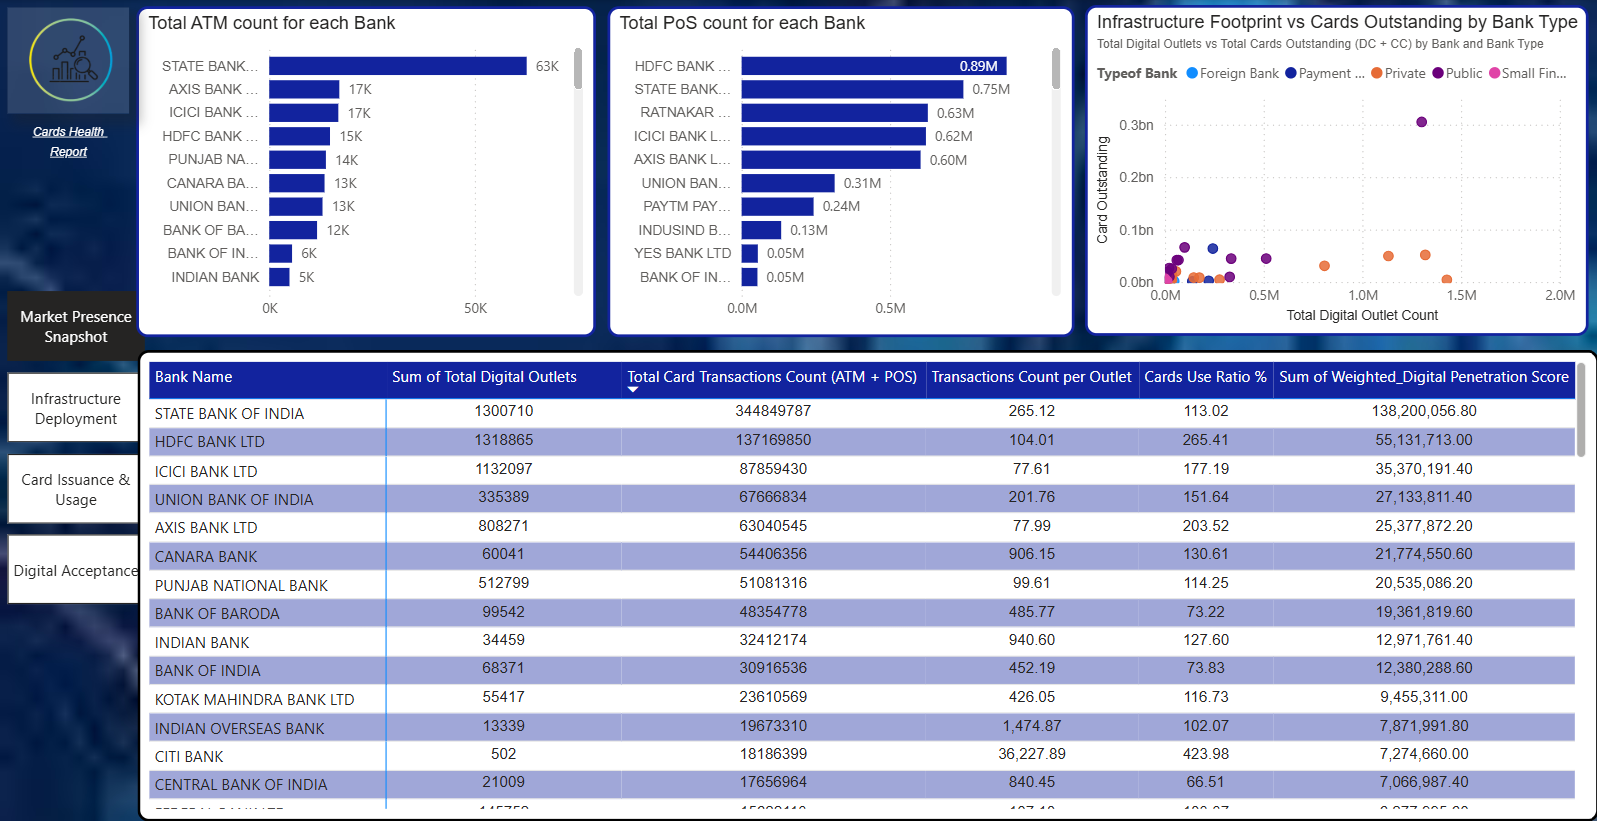

The page's visual inventory and layout, read from the dashboard file:
{"tool":"powerbi","page":{"name":"Market Presence Snapshot","canvas":[1400,720],"ordinal":0},"visuals":[{"type":"pageNavigator","box":[6.9,254.5,120.3,277.7],"z":0},{"type":"clusteredBarChart","title":"Total ATM count for each Bank","fields":{"Category":["Sheet1.Bank Name"],"Y":["Sheet1.Total ATM"]},"box":[119.2,5.1,402.6,289.3],"z":1000},{"type":"clusteredBarChart","title":"Total PoS count for each Bank","fields":{"Category":["Sheet1.Bank Name"],"Y":["Sheet1.Total PoS"]},"box":[532.2,5.1,408.4,289.3],"z":2000},{"type":"pivotTable","fields":{"Rows":["Sheet1.Bank Name"],"Values":["Sum(Sheet1.Total Digital Outlets)","Sheet1.Total Card Transactions Count (ATM + POS)","Sheet1.Transactions Count per Outlet","Sheet1.Cards Use Ratio %","Sum(Sheet1.Weighted_Digital Penetration Score)"]},"box":[120.3,306.6,1279.7,413.1],"z":3000},{"type":"scatterChart","title":"Infrastructure Footprint vs Cards Outstanding by Bank Type","fields":{"X":["Sum(Sheet1.Total Digital Outlets)"],"Category":["Sheet1.Bank Name"],"Series":["Sheet1.Typeof Bank"],"Y":["Sheet1.Total Cards Outstanding (DC + CC)"]},"box":[949.7,4.8,441.1,289.9],"z":4000},{"type":"image","box":[6.9,6.9,106.4,92.6],"z":5000},{"type":"textbox","box":[6.9,99.5,106.4,49.8],"z":6000}]}

Visuals, with their boxes in screenshot pixels (x1, y1, x2, y2):
pageNavigator: (12,290,147,601)
"Total ATM count for each Bank" clusteredBarChart: (138,10,590,335)
"Total PoS count for each Bank" clusteredBarChart: (601,10,1060,335)
pivotTable - Sheet1.Bank Name x Sum(Sheet1.Total Digital Outlets): (139,348,1575,812)
"Infrastructure Footprint vs Cards Outstanding by Bank Type" scatterChart: (1070,10,1565,335)
image: (12,12,131,116)
textbox: (12,116,131,172)
